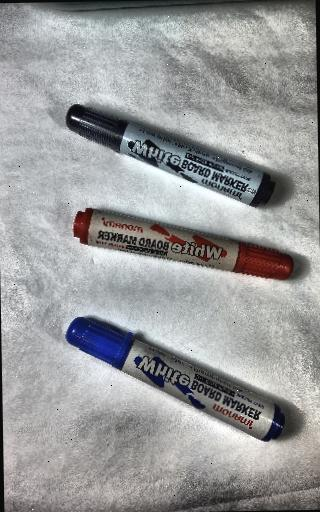marcador azul: (67, 317, 285, 441)
marcador negro: (69, 105, 274, 206)
marcador rojo: (73, 208, 293, 280)
